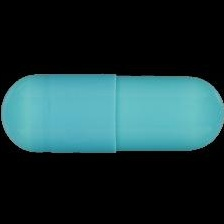0143-9803: (0, 0, 224, 224)
